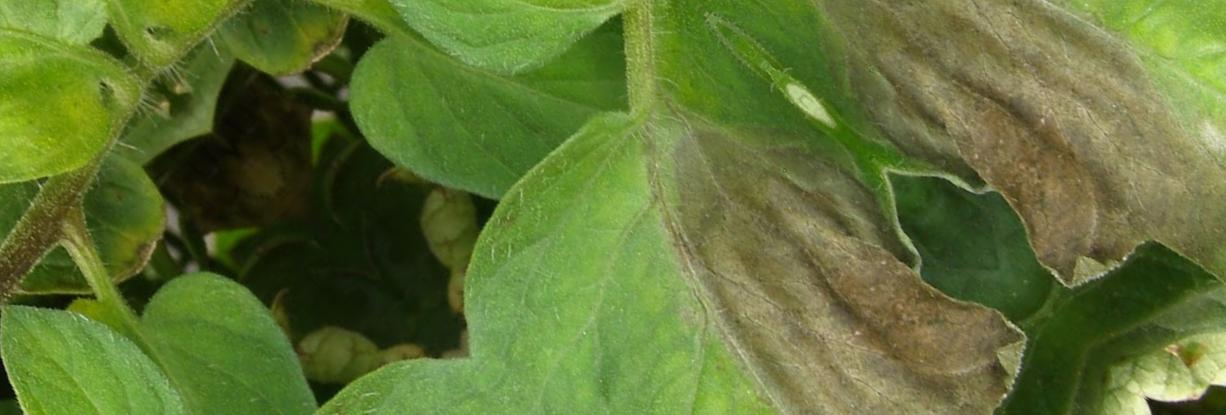Tomato mold leaf: (395, 0, 1211, 415), (305, 0, 648, 140)
